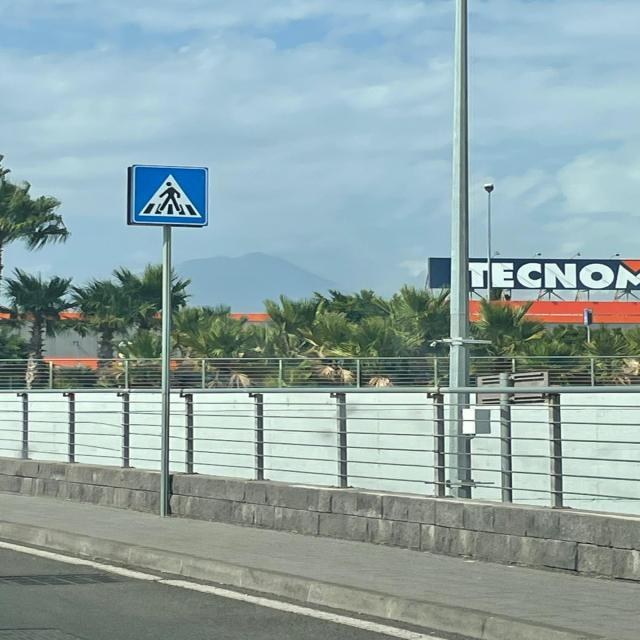info_crosswalk: (130, 164, 210, 227)
